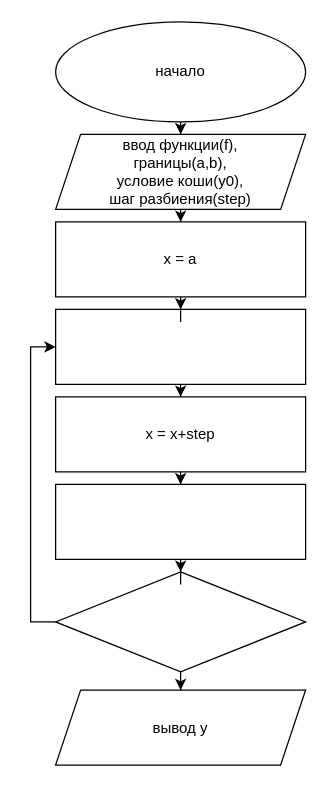
Some shapes in this 328 by 788 pixel diagram are drawn without their labels. Each missing label, with the centre of its shape:
x = b: the point at 180,621
y0 = y: the point at 180,521
y=y0+step*f(x+step/2, y0+(step/2)*f(x,y0)): the point at 180,346
